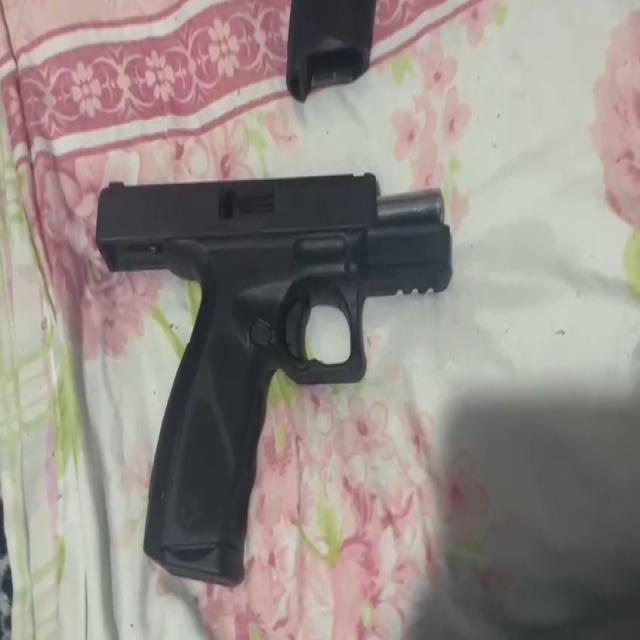gun: (92, 172, 458, 594)
